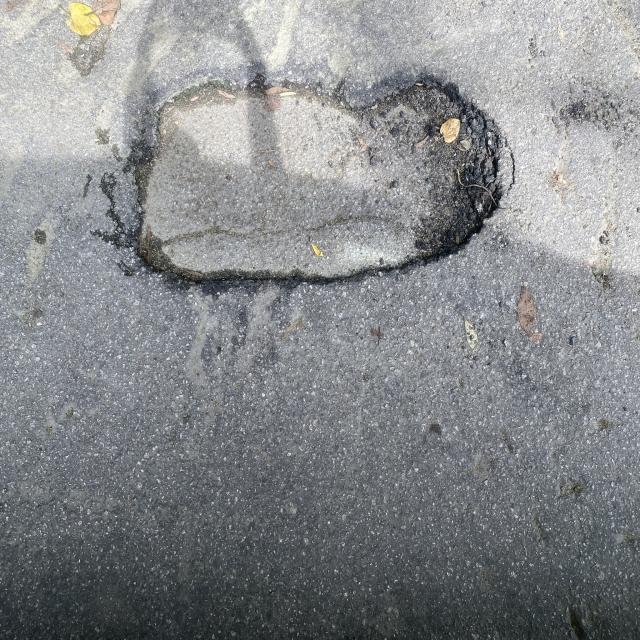Pothole: (105, 42, 585, 304)
